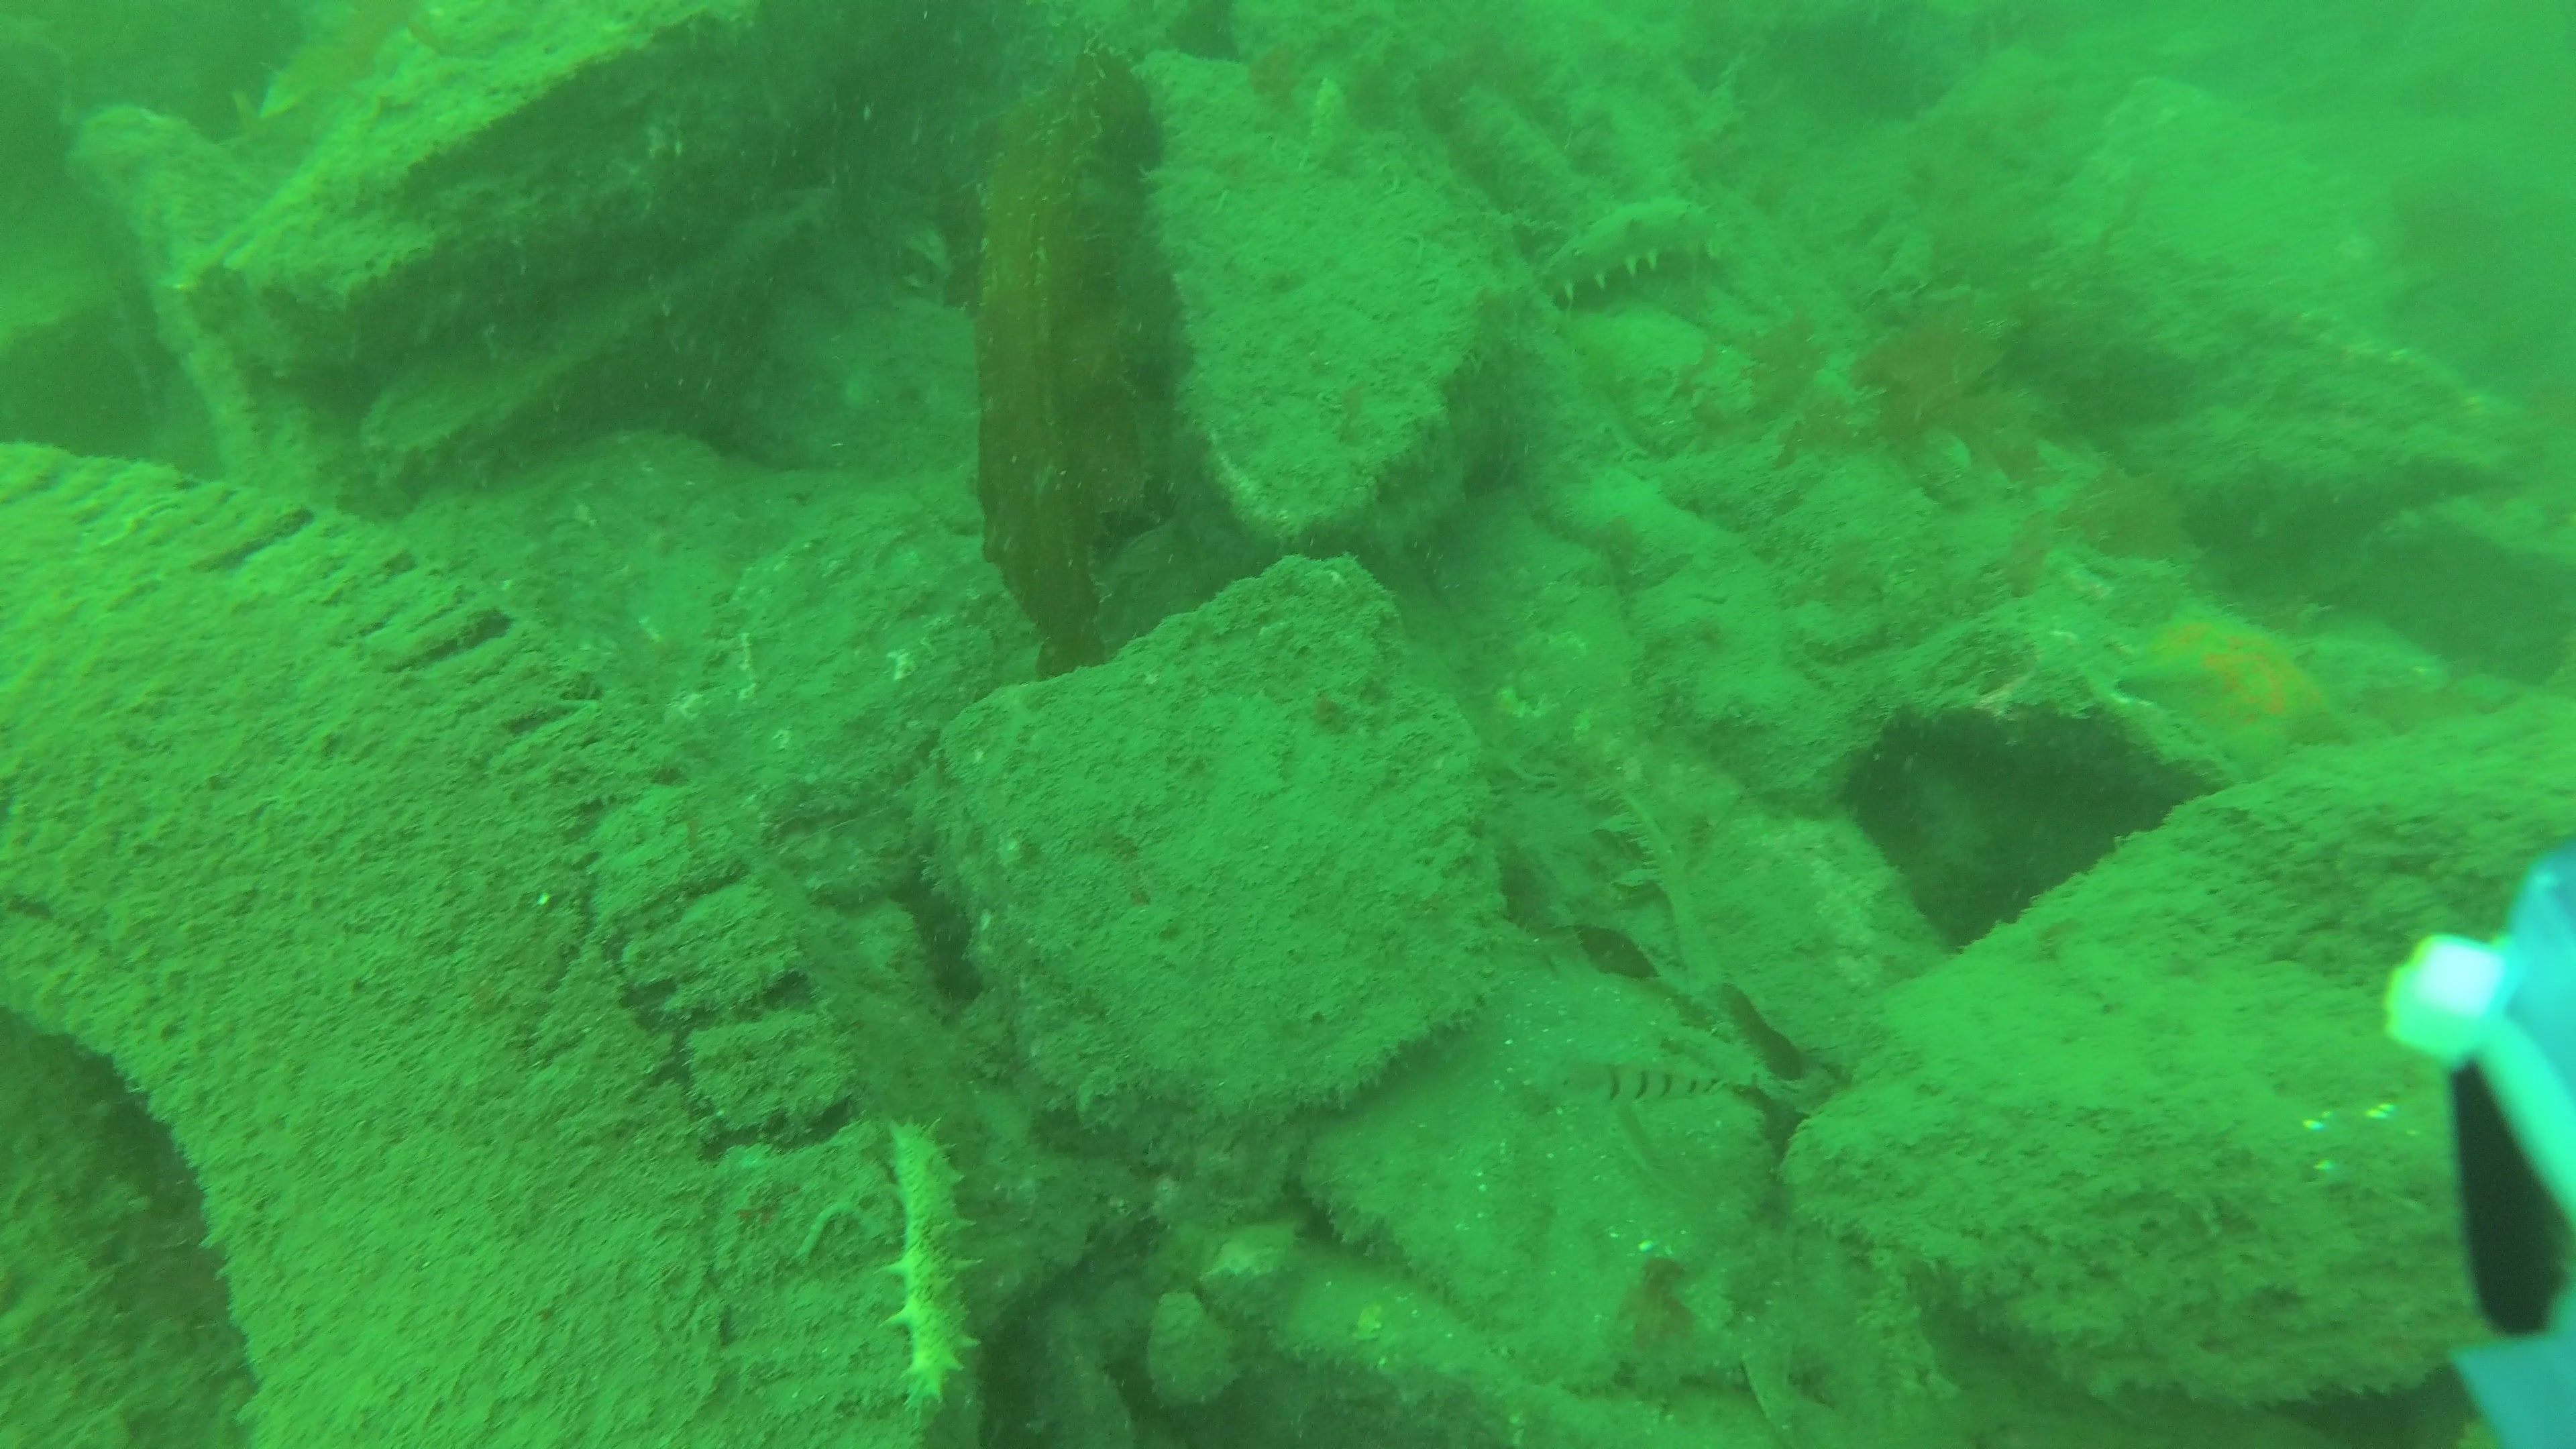holothurian: (872, 1116, 977, 1407), (1541, 200, 1713, 299)
starfish: (2123, 586, 2360, 775)
